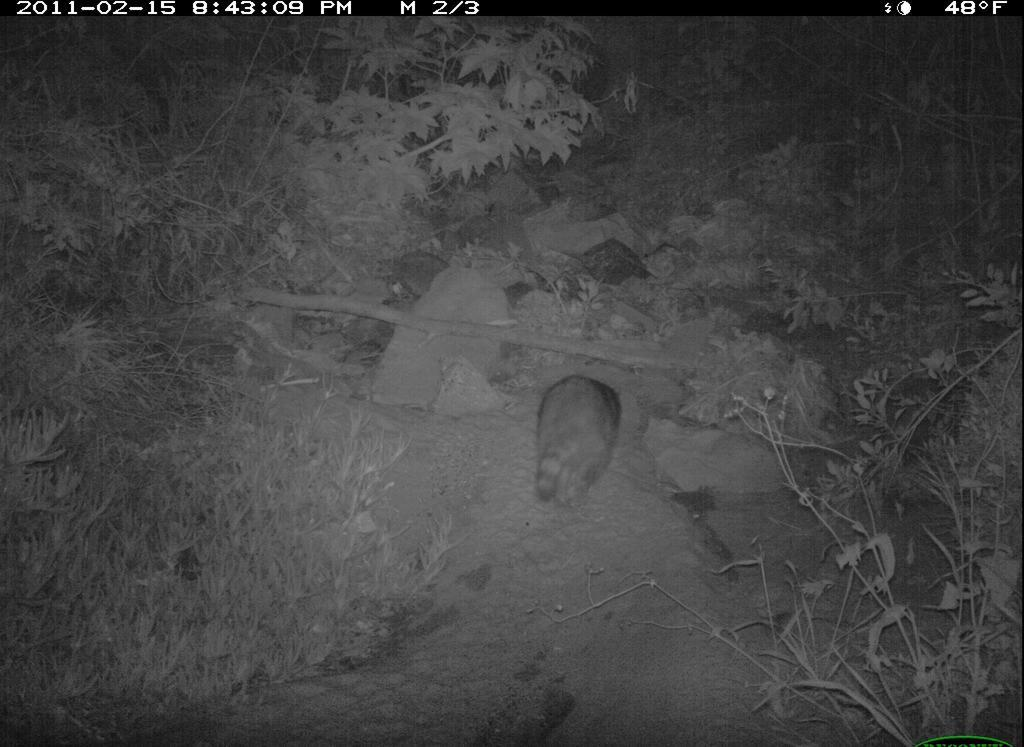raccoon: (533, 363, 632, 523)
